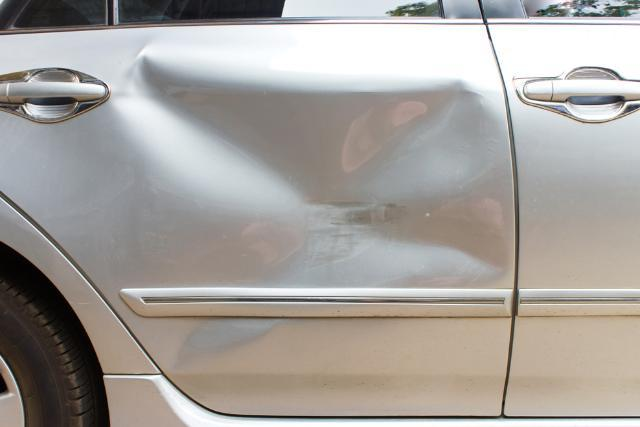Door: (94, 24, 506, 409)
